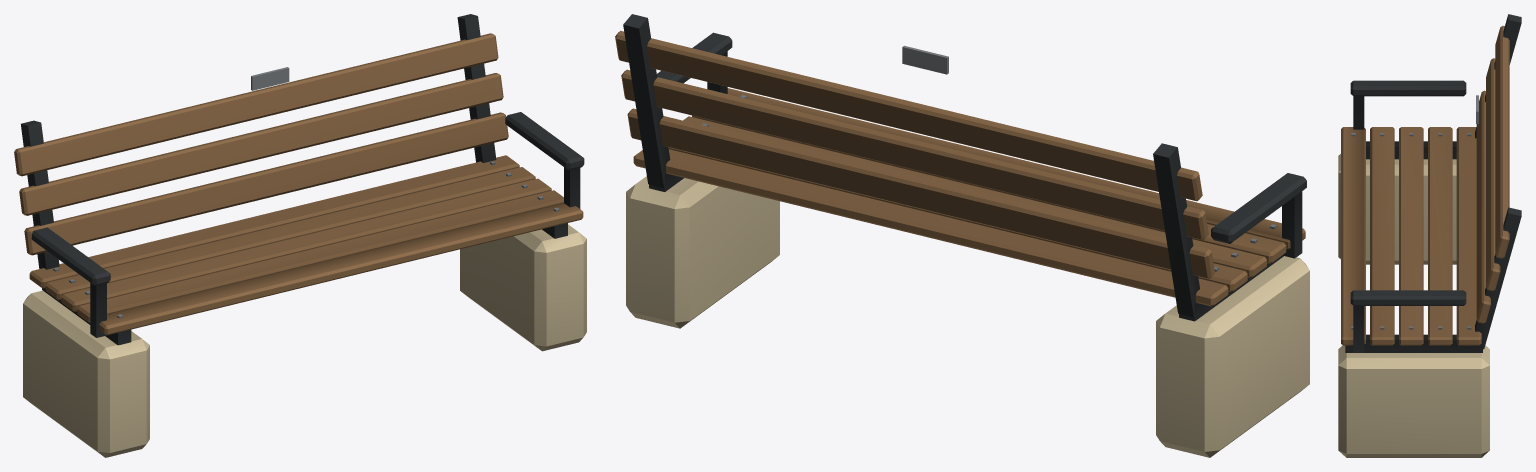
The model's file is bench.glb.
The picture shows the model from 3 angles, left to right: view 1: azimuth 30°, elevation 25°; view 2: azimuth 150°, elevation 25°; view 3: azimuth 270°, elevation 25°; orthographic projection. The views are drawn at different scales.
Parts seen in each view (by area): view 1: bench; view 2: bench; view 3: bench.
Boxes of the visible parts, x1,y1,x2,y2 form: bench: (14, 14, 586, 457); bench: (615, 14, 1309, 457); bench: (1338, 14, 1521, 457).
Bounding box in the file's own units: 1.87 × 1 × 0.6653.
